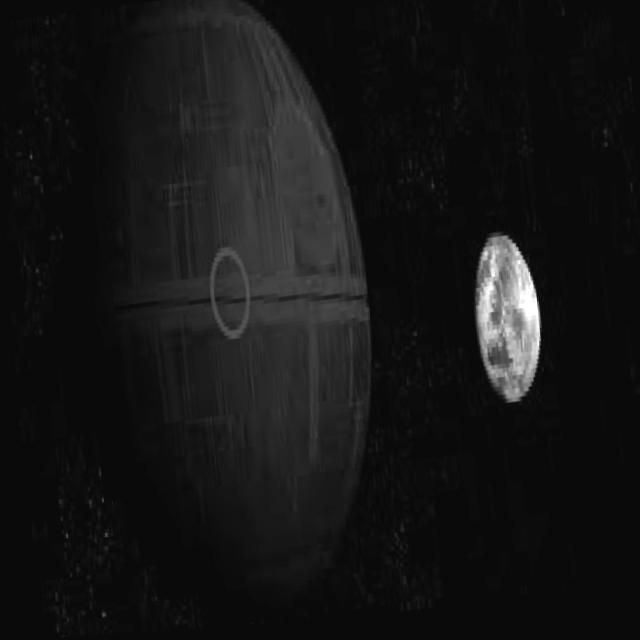death-stars: (101, 0, 369, 584)
